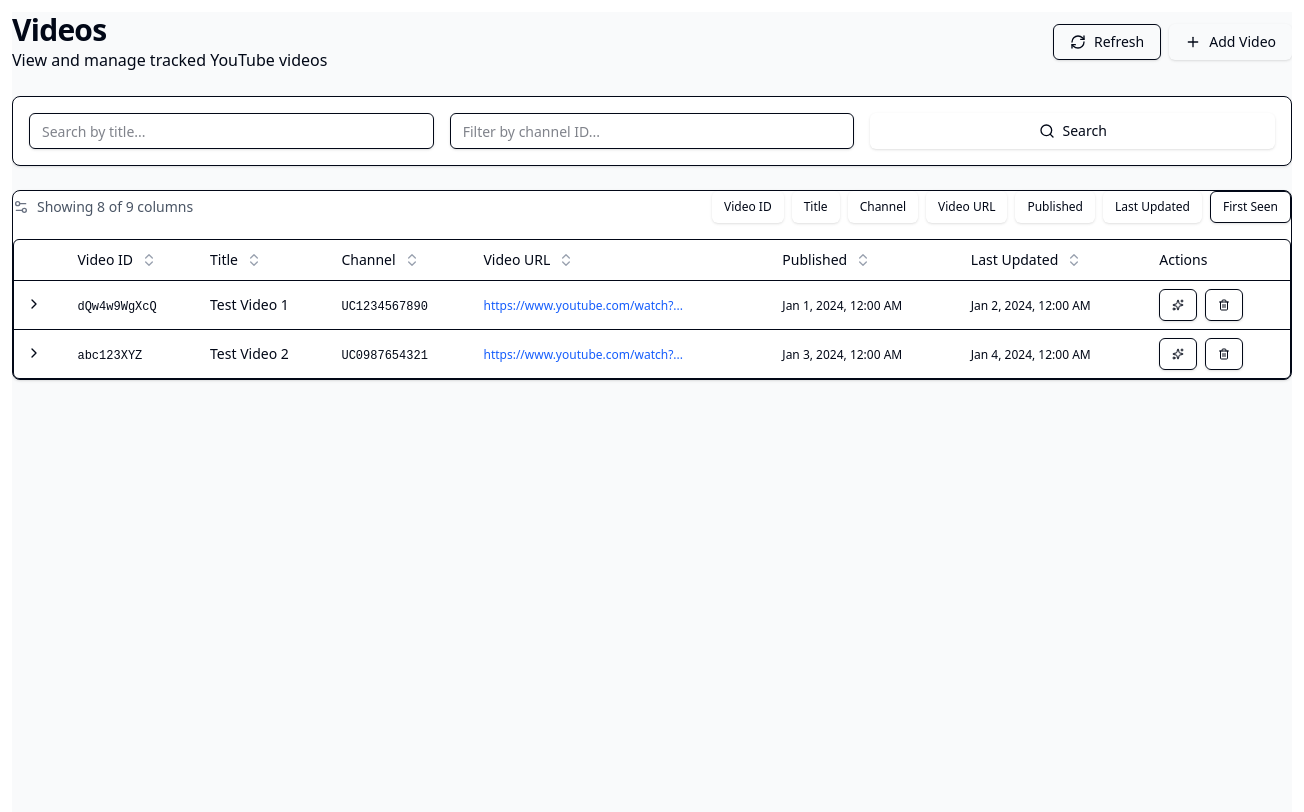
Test: Videos › should show create form when Add Video button is clicked
Expected: the text "Test Video 1" is shown, [210,294,289,314]
Step 1. Click the button "Add Video" → click(1231, 42), box [1169,24,1292,60]
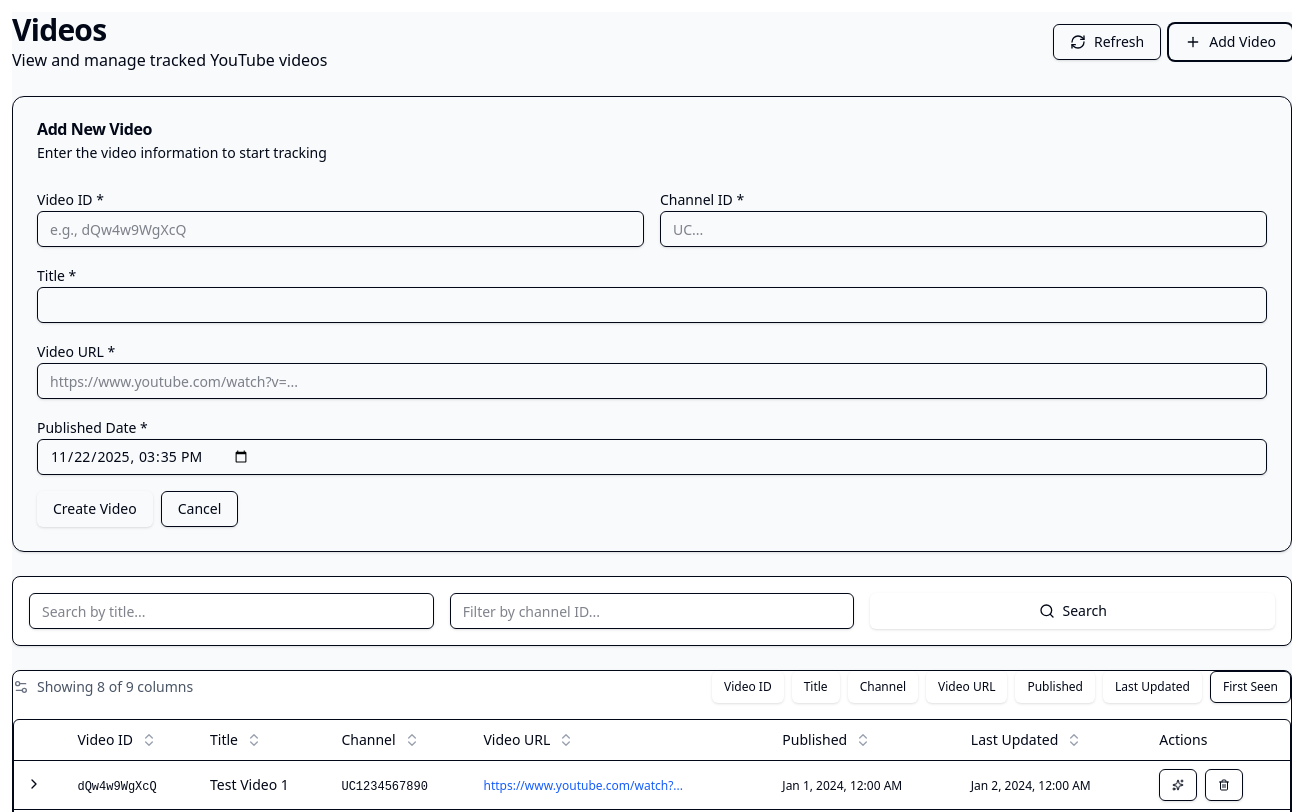
Now the heading "Add New Video" is shown, box [37,118,152,140]
Now the field labelled "Video ID *" is shown, box [37,211,644,247]
Now the field labelled "Channel ID *" is shown, box [660,211,1267,247]
